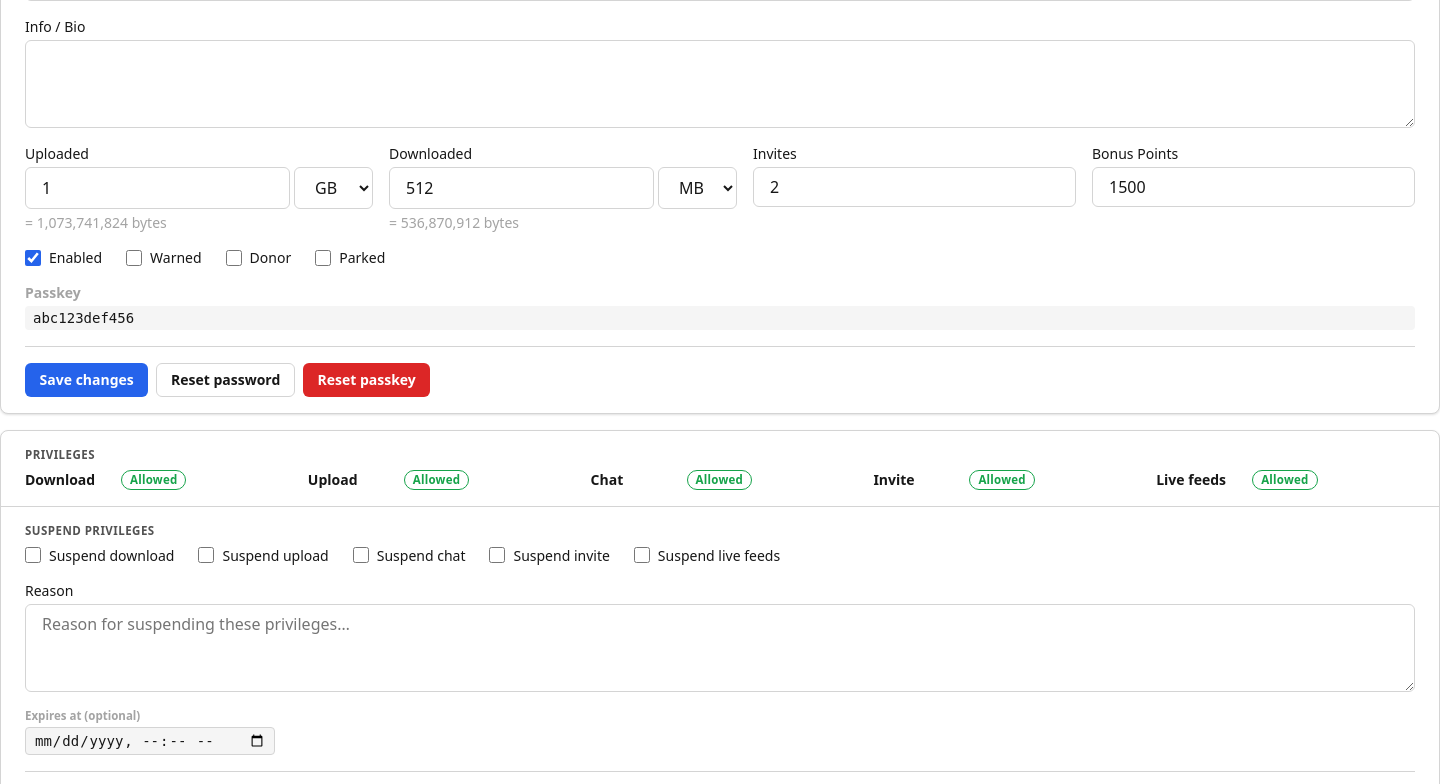
AdminUserDetailPage › does not send a request when nothing changed
(page scrolled)
Click the button "Save changes".
click(87, 380)  # box [25,363,148,397]
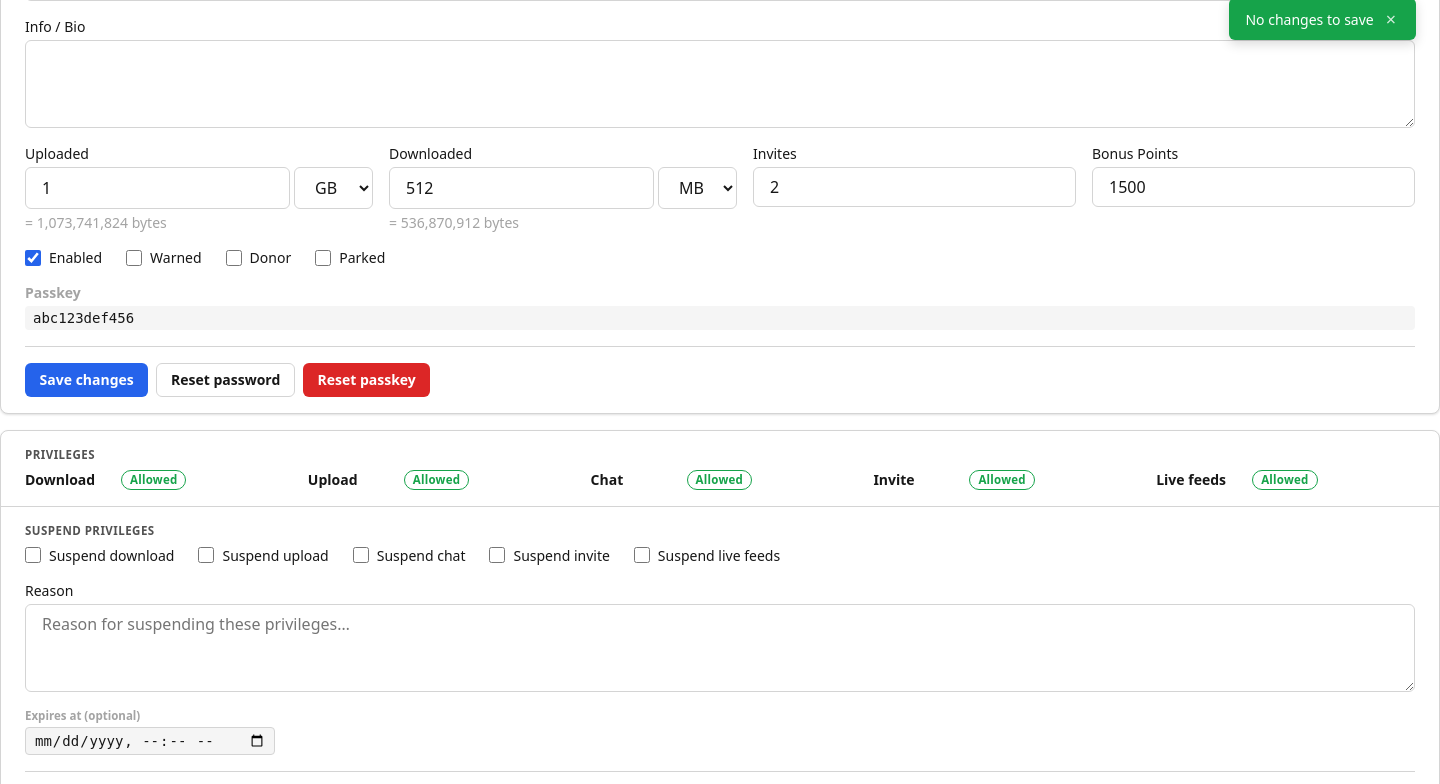
Expected: the text "No changes to save" is shown, [1246,10,1374,28]
